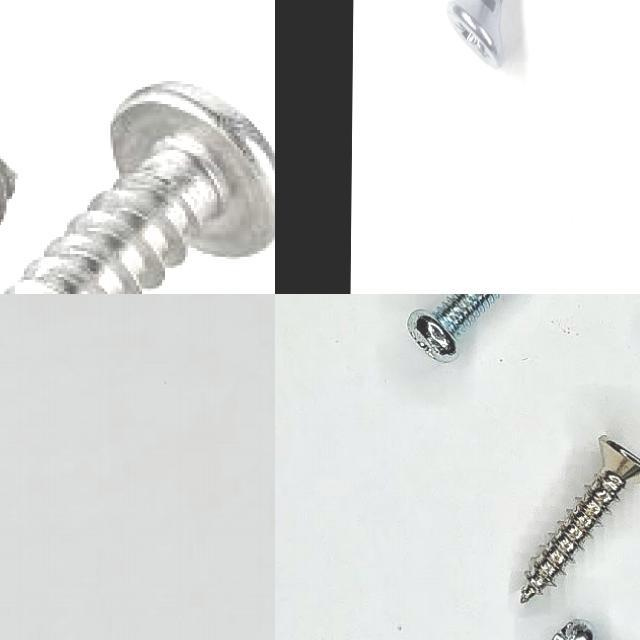Screw: (1, 81, 275, 294), (521, 436, 640, 604), (409, 294, 502, 362), (446, 0, 503, 67)
